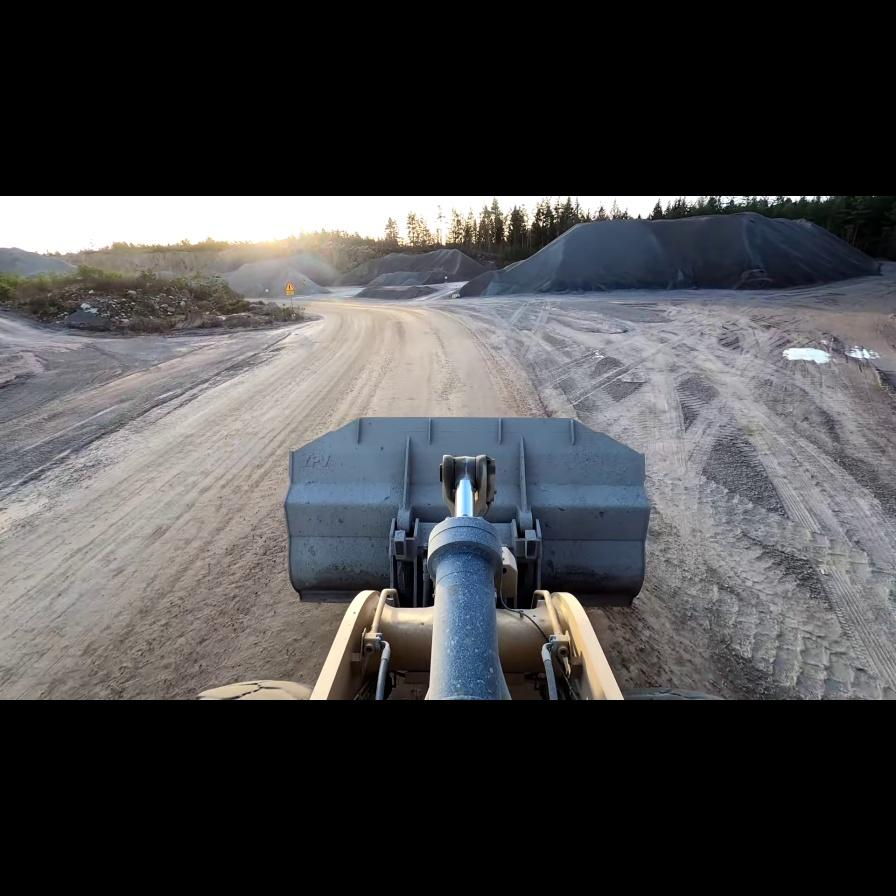anchor: (439, 454, 495, 518)
pile of gravel: (466, 213, 882, 295), (340, 248, 494, 285), (220, 256, 336, 297), (0, 246, 76, 279), (352, 285, 440, 300)
